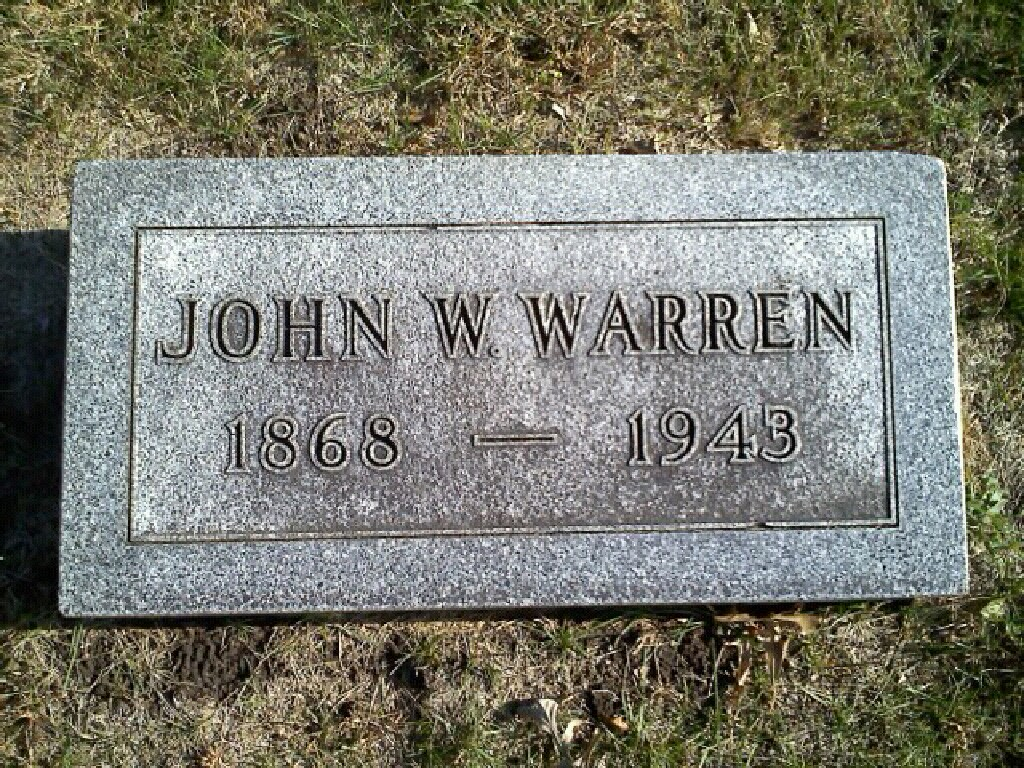flat: (49, 148, 972, 621)
